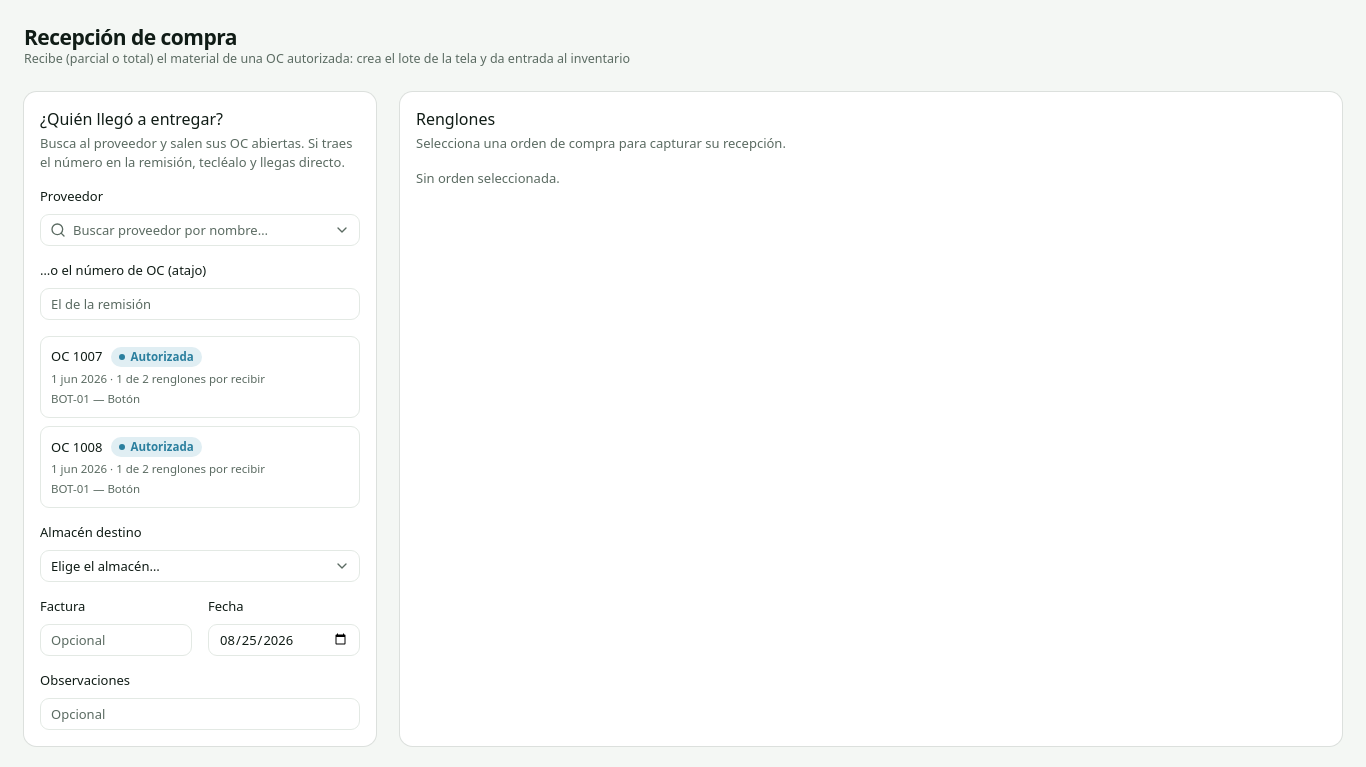
Test: RecepcionComprasPagina (F4-E3) › precarga el PENDIENTE (no lo pedido) y muestra lo ya recibido en el renglón de avío
Click the button with test id "rec-oc-7".
click(200, 377)  # box left=40, top=336, right=360, bottom=418
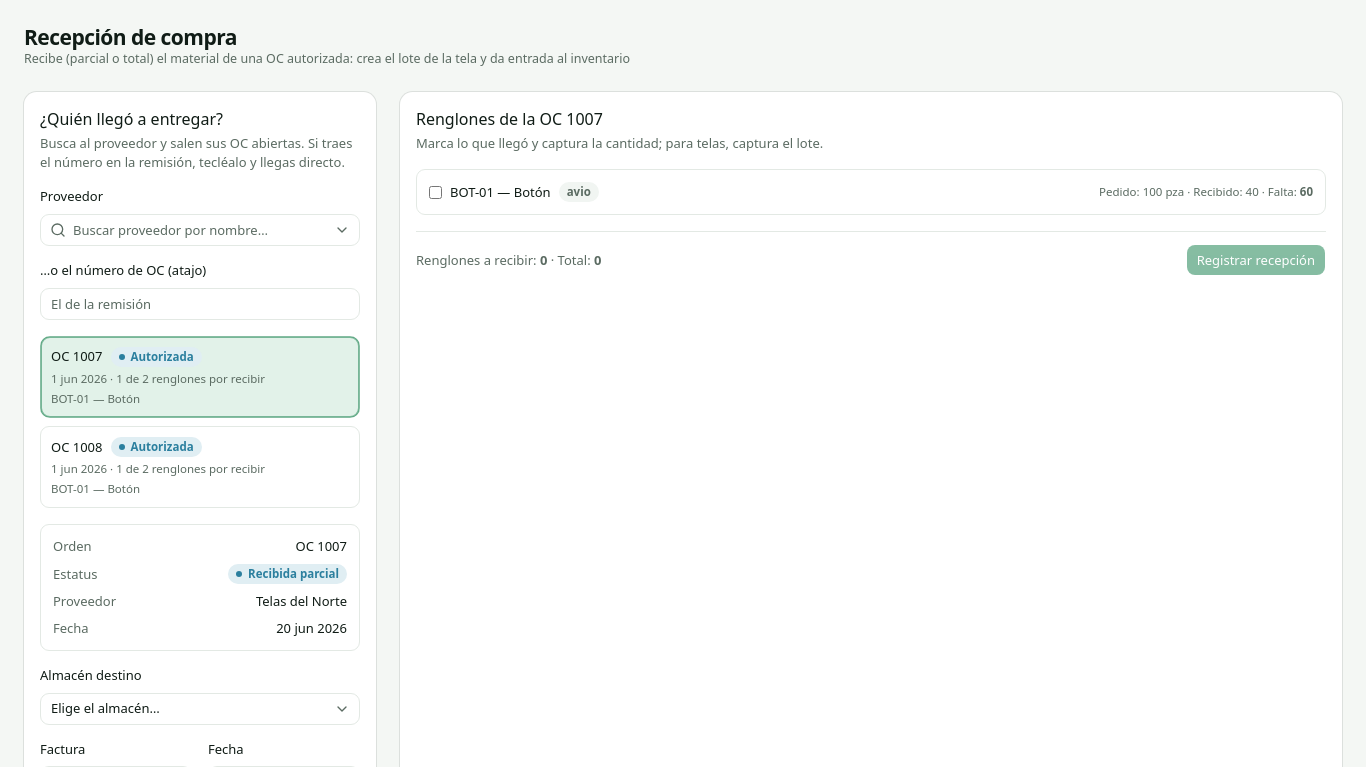
Expected: the element with test id "rec-pendiente-20" shows "Pedido: 100", left=1099, top=184, right=1313, bottom=200
Expected: the element with test id "rec-pendiente-20" shows "Recibido: 40", left=1099, top=184, right=1313, bottom=200
Expected: the element with test id "rec-pendiente-20" shows "Falta: 60", left=1099, top=184, right=1313, bottom=200
Click the checkbox with test id "rec-incluir-20".
click(436, 192)  # box left=429, top=186, right=442, bottom=199
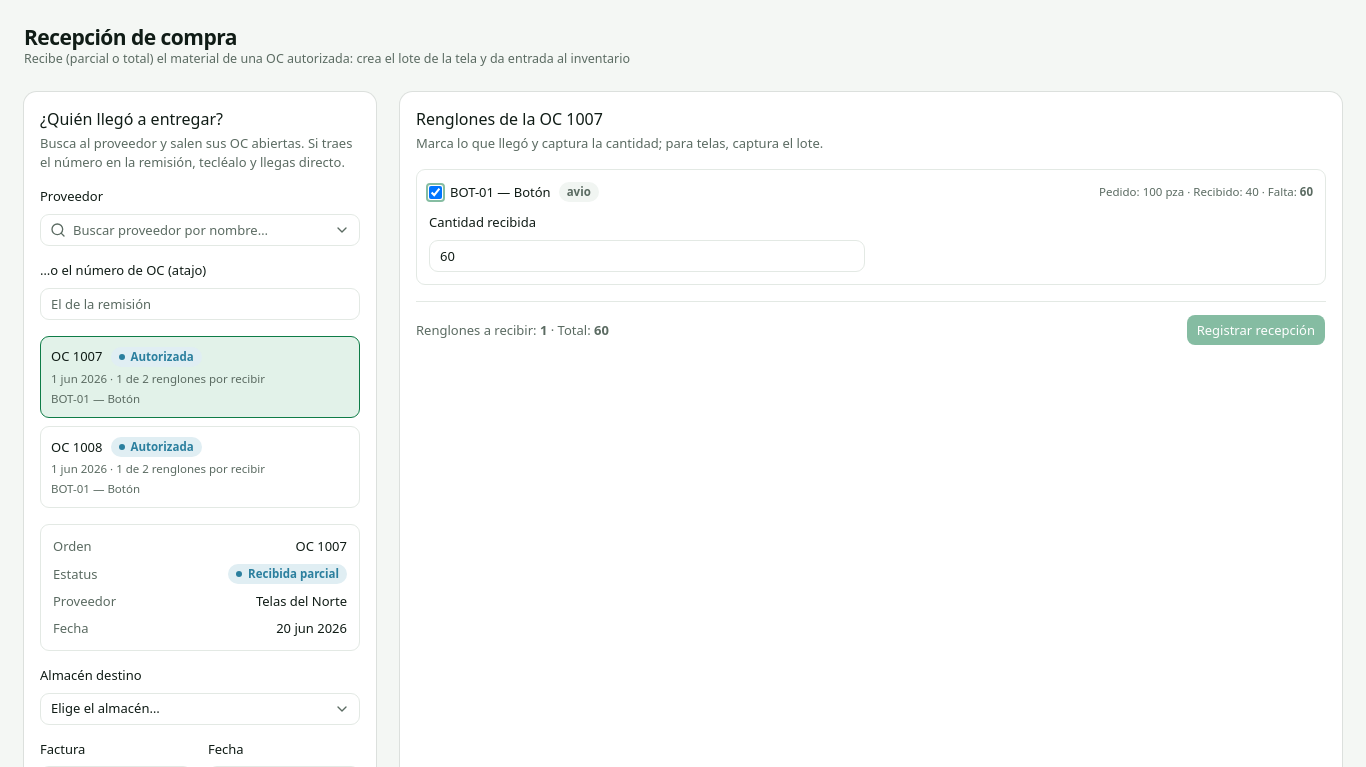
Expected: the number field with test id "rec-cant-20" holds "60", left=429, top=240, right=865, bottom=272
